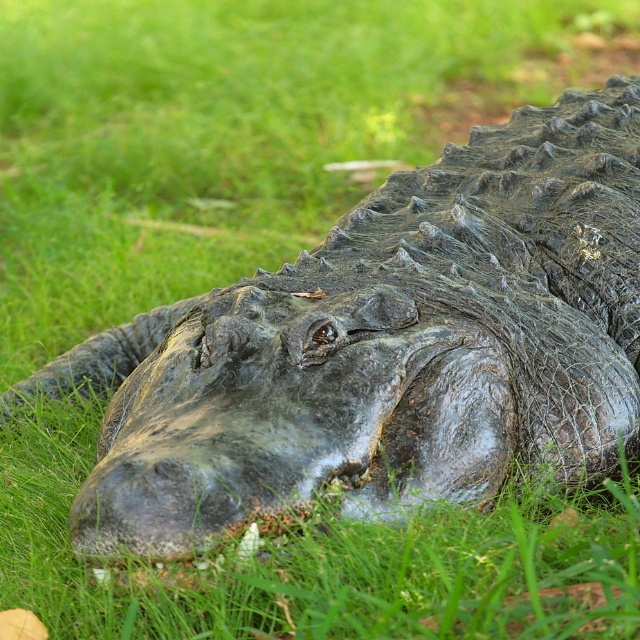Crocodile: (0, 74, 640, 592)
